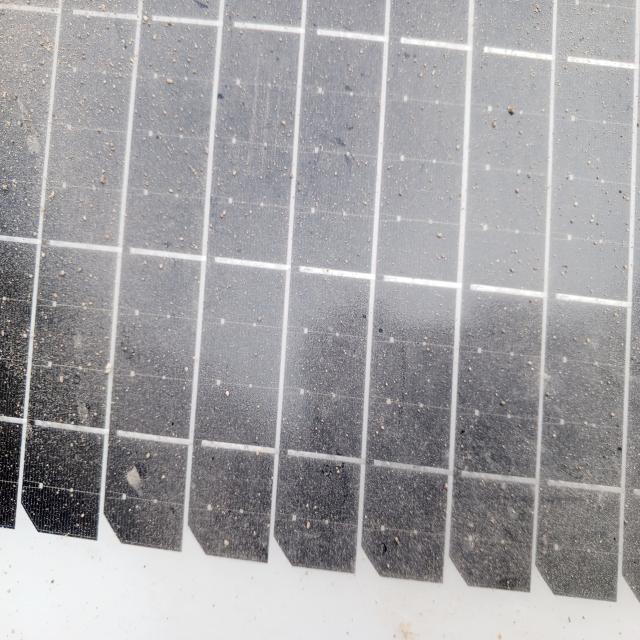Surface Contaminant: (15, 14, 639, 601)
